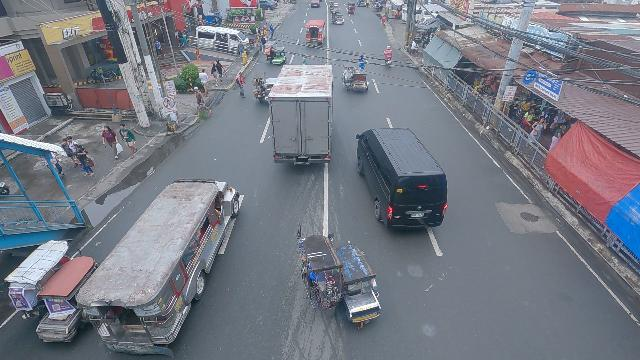car: (310, 0, 321, 9)
jeepney: (76, 177, 245, 353), (305, 19, 326, 46)
motorcycle: (385, 45, 393, 65)
truck: (270, 63, 338, 165)
van: (351, 128, 449, 230), (194, 24, 249, 56)
